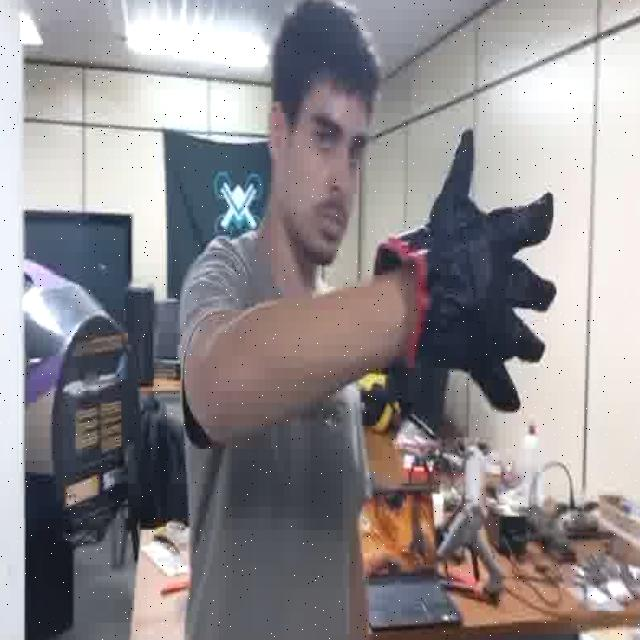Gloves: (378, 134, 554, 420)
